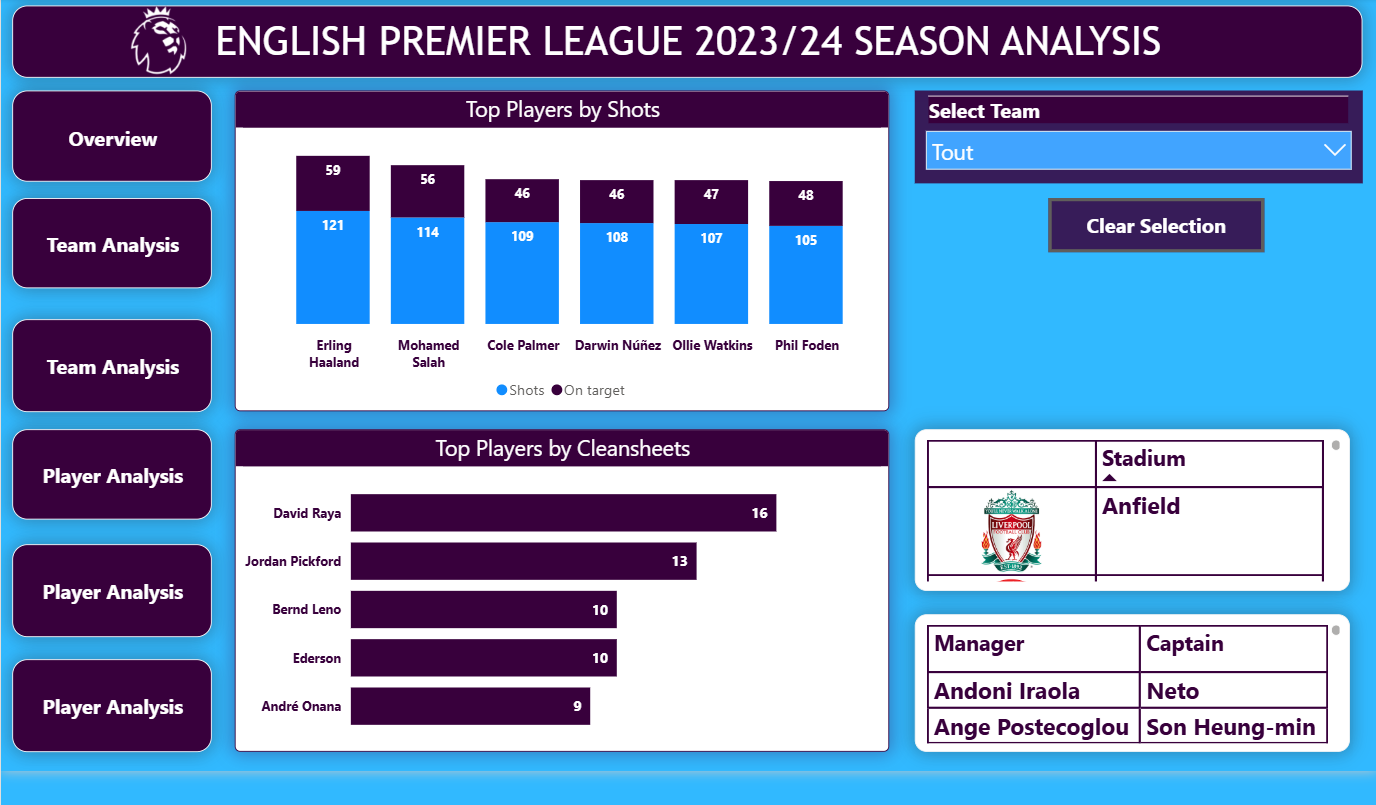

This screenshot's page, from the dashboard's own definition file:
{"tool":"powerbi","page":{"name":"Page 5","canvas":[1280,720],"ordinal":4},"visuals":[{"type":"actionButton","box":[10.1,86.4,185.8,85],"z":0},{"type":"textbox","box":[10.1,6.7,1256.4,67.5],"z":1000},{"type":"actionButton","box":[10.1,185.5,185.5,84.3],"z":2000},{"type":"actionButton","box":[10.1,298.5,185.5,86],"z":3000},{"type":"actionButton","box":[10.1,507.6,185.5,86],"z":4000},{"type":"actionButton","box":[10.1,401.4,185.5,84.3],"z":5000},{"type":"image","box":[108,2.9,76.3,74.9],"z":6000},{"type":"slicer","fields":{"Values":["Teams1.Club"]},"box":[850,86,416.5,86],"z":7000},{"type":"actionButton","box":[974.8,185.5,200.7,50.6],"z":8000},{"type":"tableEx","fields":{"Values":["Url2.url","Manager.Stadium"]},"box":[850,401.4,404.7,150.1],"z":9000},{"type":"tableEx","fields":{"Values":["Manager.Manager","Manager.Captain"]},"box":[850,573.4,404.7,128.2],"z":10000},{"type":"barChart","title":"Top Players by Cleansheets","fields":{"Category":["Clean_Sheets.Player"],"Y":["Sum(Clean_Sheets.Stat)"]},"box":[217.5,401.4,608.8,300.2],"z":11000},{"type":"columnChart","title":"Top Players by Shots","fields":{"Category":["Shots.Player"],"Y":["Sum(Shots.Shots)","Sum(Shots.Shots on target)"]},"box":[217.5,86,608.8,298.5],"z":12000},{"type":"actionButton","box":[10.1,615.5,185.5,86],"z":13000}]}

Visuals, with their boxes on the page's 1280x720 design canvas (x1, y1, x2, y2). These are canvas units, not pixel positions in the 1376x805 screenshot, which may show the page scaled, cropped or inside an application window:
actionButton: <region>10, 86, 196, 171</region>
textbox: <region>10, 7, 1266, 74</region>
actionButton: <region>10, 186, 196, 270</region>
actionButton: <region>10, 298, 196, 384</region>
actionButton: <region>10, 508, 196, 594</region>
actionButton: <region>10, 401, 196, 486</region>
image: <region>108, 3, 184, 78</region>
slicer - Teams1.Club: <region>850, 86, 1266, 172</region>
actionButton: <region>975, 186, 1176, 236</region>
tableEx - Url2.url x Manager.Stadium: <region>850, 401, 1255, 552</region>
tableEx - Manager.Manager x Manager.Captain: <region>850, 573, 1255, 702</region>
"Top Players by Cleansheets" barChart: <region>218, 401, 826, 702</region>
"Top Players by Shots" columnChart: <region>218, 86, 826, 384</region>
actionButton: <region>10, 616, 196, 702</region>
